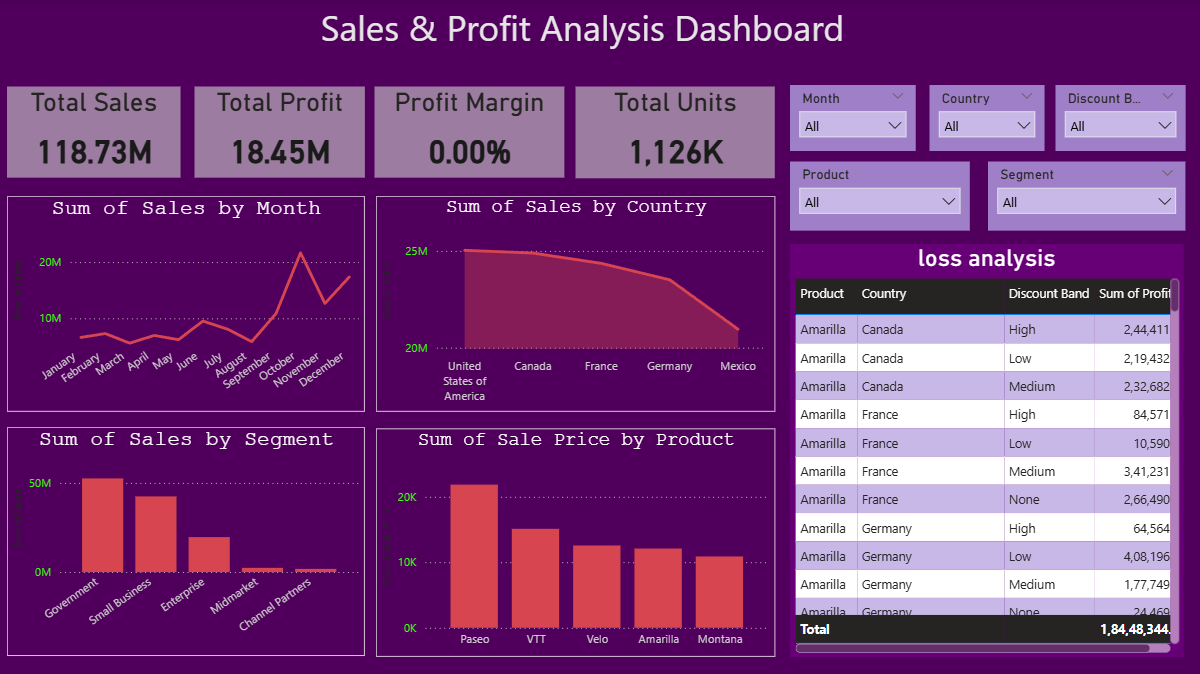

What the dashboard file says about the page in this screenshot:
{"tool":"powerbi","page":{"name":"Page 1","canvas":[1280,720],"ordinal":0},"visuals":[{"type":"card","title":"Total Sales ","fields":{"Values":["Sum(power bi 1.  Sales )"]},"box":[12.7,93.7,184.1,96.8],"z":0},{"type":"textbox","box":[334.9,0,574.6,74.6],"z":1000},{"type":"card","title":"Total Profit","fields":{"Values":["Sum(power bi 1. Profit )"]},"box":[211.1,93.7,181,96.8],"z":2000},{"type":"card","title":"Profit Margin","fields":{"Values":["Min(power bi 1.Custom)"]},"box":[403.2,93.7,201.6,96.8],"z":3000},{"type":"card","title":"Total Units ","fields":{"Values":["Sum(power bi 1. Units Sold )"]},"box":[615.6,93.8,211.6,97],"z":4000},{"type":"lineChart","fields":{"Category":["power bi 1.Date.Variation.Date Hierarchy.Month"],"Y":["Sum(power bi 1.  Sales )"]},"box":[12.7,209.5,379.4,228.6],"z":5000},{"type":"areaChart","fields":{"Category":["power bi 1.Country"],"Y":["Sum(power bi 1.  Sales )"]},"box":[403.8,209.6,423.1,228.8],"z":6000},{"type":"columnChart","fields":{"Category":["power bi 1.Segment"],"Y":["Sum(power bi 1.  Sales )"]},"box":[12.7,455.6,379.4,242.9],"z":7000},{"type":"tableEx","title":"loss analysis","fields":{"Values":["power bi 1. Product ","power bi 1.Country","power bi 1. Discount Band ","Sum(power bi 1. Profit )"]},"box":[842.9,260.3,417.5,438.1],"z":8000},{"type":"columnChart","fields":{"Category":["power bi 1. Product "],"Y":["Sum(power bi 1. Sale Price )"]},"box":[403.8,455.8,423.1,242.3],"z":9000},{"type":"slicer","fields":{"Values":["power bi 1.Segment"]},"box":[1052.4,173,209.5,73],"z":10000},{"type":"slicer","fields":{"Values":["power bi 1.Country"]},"box":[990.5,92.1,122.2,69.8],"z":11000},{"type":"slicer","fields":{"Values":["power bi 1. Product "]},"box":[842.9,173,190.5,73],"z":12000},{"type":"slicer","fields":{"Values":["power bi 1. Discount Band "]},"box":[1123.8,92.1,138.1,69.8],"z":13000},{"type":"slicer","fields":{"Values":["power bi 1.Date.Variation.Date Hierarchy.Month"]},"box":[842.9,92.1,133.3,69.8],"z":14000}]}

Visuals, with their boxes in screenshot pixels (x1, y1, x2, y2), scaled from the page's 1280x720 canvas onto the 1200x674 screenshot:
"Total Sales " card: (x1=12, y1=88, x2=184, y2=178)
textbox: (x1=314, y1=0, x2=853, y2=70)
"Total Profit" card: (x1=198, y1=88, x2=368, y2=178)
"Profit Margin" card: (x1=378, y1=88, x2=567, y2=178)
"Total Units " card: (x1=577, y1=88, x2=776, y2=179)
lineChart - power bi 1.Date.Variation.Date Hierarchy.Month x Sum(power bi 1.  Sales ): (x1=12, y1=196, x2=368, y2=410)
areaChart - power bi 1.Country x Sum(power bi 1.  Sales ): (x1=379, y1=196, x2=775, y2=410)
columnChart - power bi 1.Segment x Sum(power bi 1.  Sales ): (x1=12, y1=426, x2=368, y2=654)
"loss analysis" tableEx: (x1=790, y1=244, x2=1182, y2=654)
columnChart - power bi 1. Product  x Sum(power bi 1. Sale Price ): (x1=379, y1=427, x2=775, y2=653)
slicer - power bi 1.Segment: (x1=987, y1=162, x2=1183, y2=230)
slicer - power bi 1.Country: (x1=929, y1=86, x2=1043, y2=152)
slicer - power bi 1. Product : (x1=790, y1=162, x2=969, y2=230)
slicer - power bi 1. Discount Band : (x1=1054, y1=86, x2=1183, y2=152)
slicer - power bi 1.Date.Variation.Date Hierarchy.Month: (x1=790, y1=86, x2=915, y2=152)
